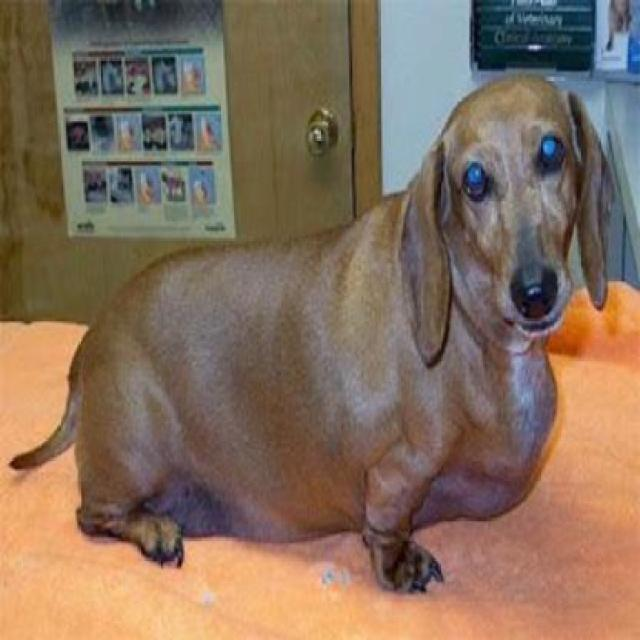Dog: (11, 79, 617, 602)
